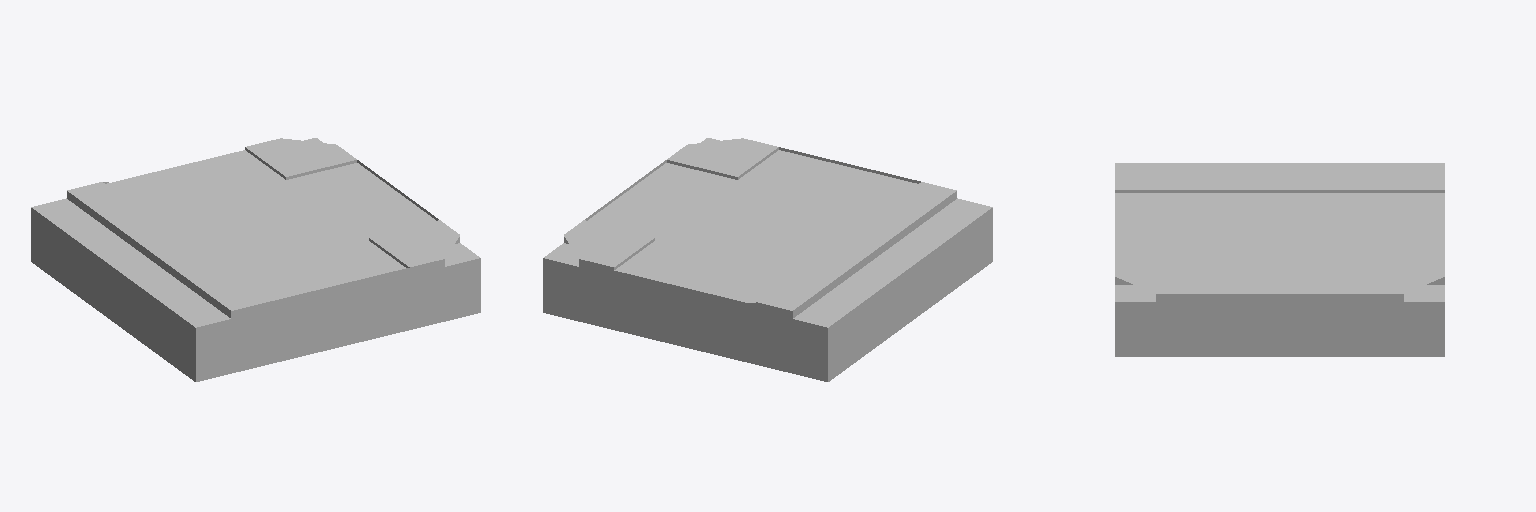
Rendered from roadTile_150.obj.
The picture shows the model from 3 angles: view 1: azimuth 30°, elevation 25°; view 2: azimuth 150°, elevation 25°; view 3: azimuth 270°, elevation 25°; orthographic projection.
Parts seen in each view (by area): view 1: Mesh1 Group1 Model; view 2: Mesh1 Group1 Model; view 3: Mesh1 Group1 Model.
Part boxes in pixels (bbox=[...]): Mesh1 Group1 Model: bbox=[31, 138, 480, 381]; Mesh1 Group1 Model: bbox=[543, 138, 992, 381]; Mesh1 Group1 Model: bbox=[1115, 163, 1444, 356].
Bounding box in the file's own units: 3 × 0.63 × 3.